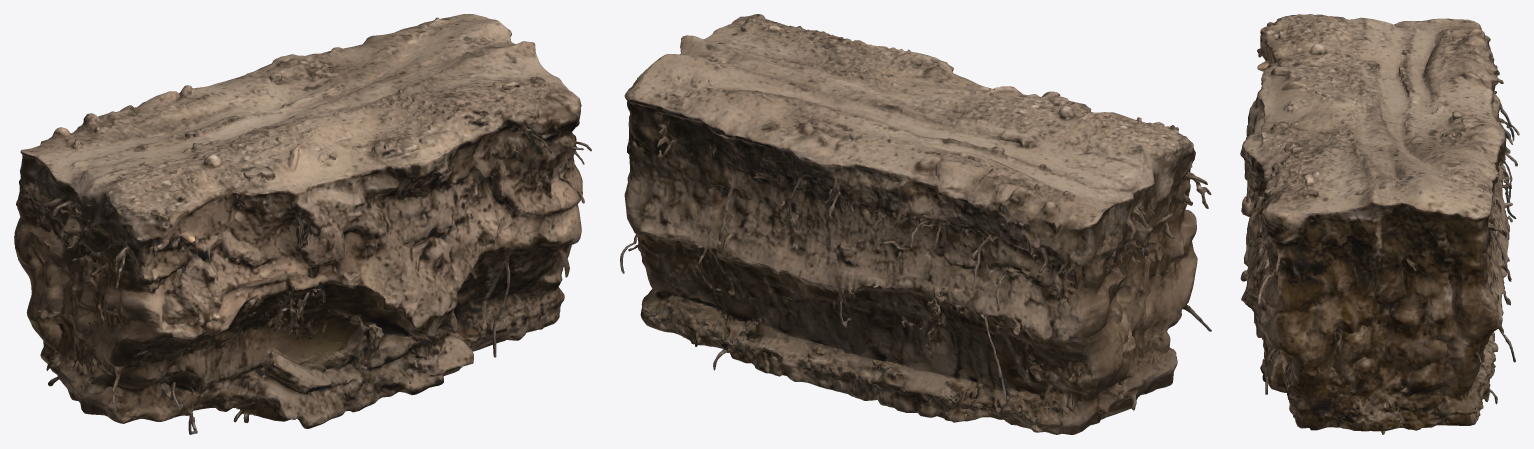
Rendered from eroded-bank-v11.glb.
The picture shows the model from 3 angles, left to right: view 1: azimuth 30°, elevation 25°; view 2: azimuth 150°, elevation 25°; view 3: azimuth 270°, elevation 25°; orthographic projection. The views are drawn at different scales.
Parts seen in each view (by area): view 1: geometry_0; view 2: geometry_0; view 3: geometry_0.
Boxes of the visible parts, x1=… form: geometry_0: x1=14, y1=14, x2=591, y2=434; geometry_0: x1=620, y1=14, x2=1211, y2=434; geometry_0: x1=1240, y1=14, x2=1519, y2=434.
Size of the model in its own units: 0.45 by 0.2519 by 0.24.
Materials: 1 (1 with a texture image).
